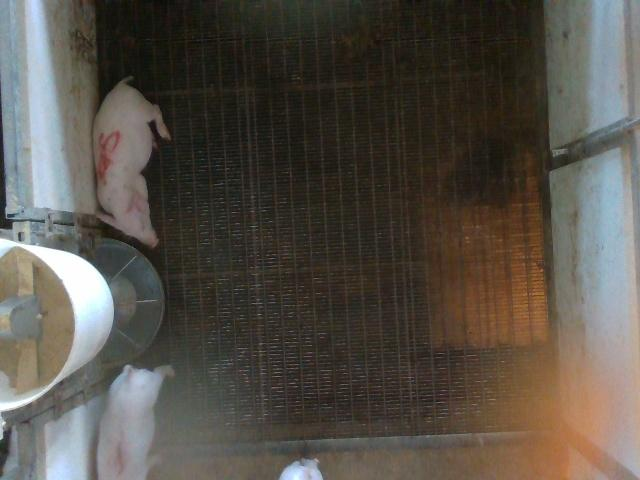pig-1: (99, 365, 174, 478)
pig-5: (92, 76, 170, 247)
